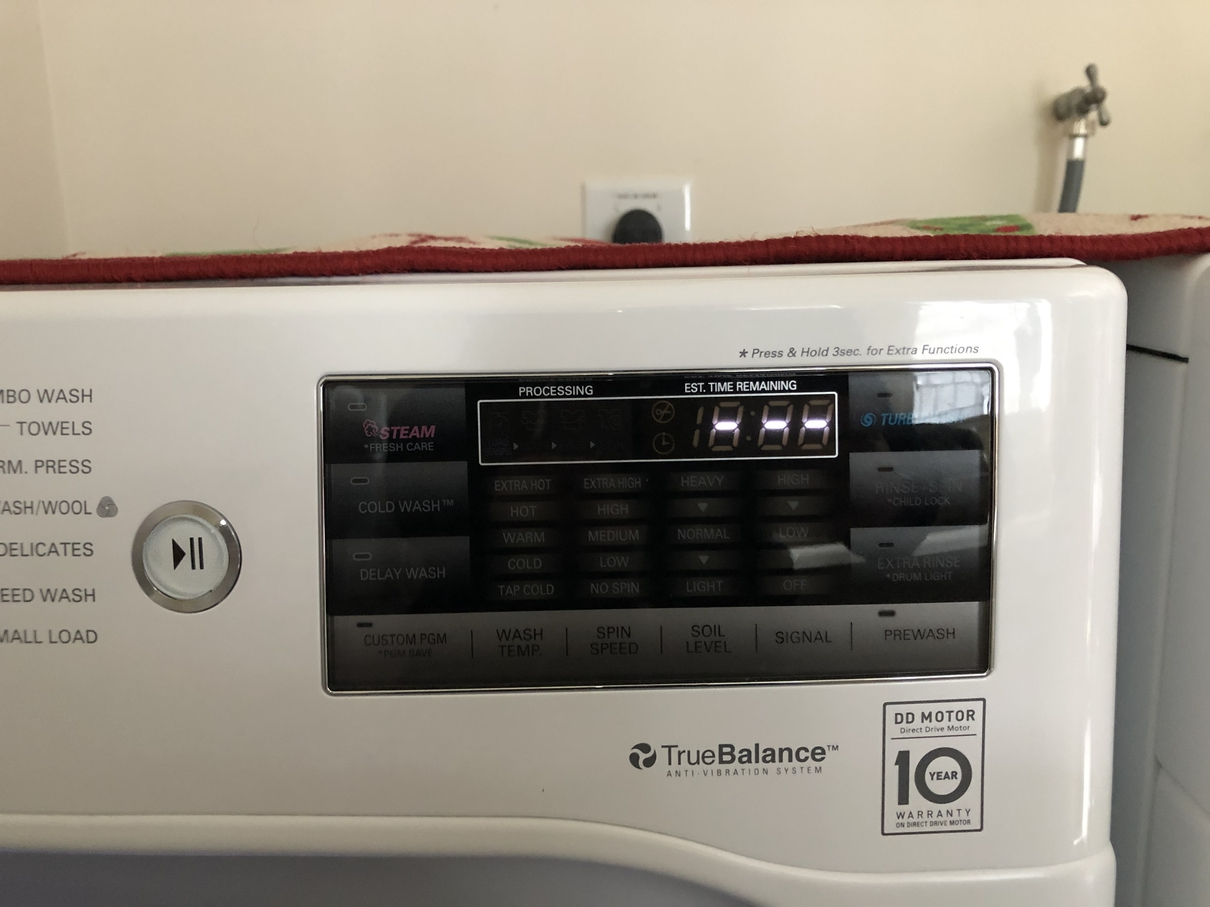status: (464, 372, 845, 470)
